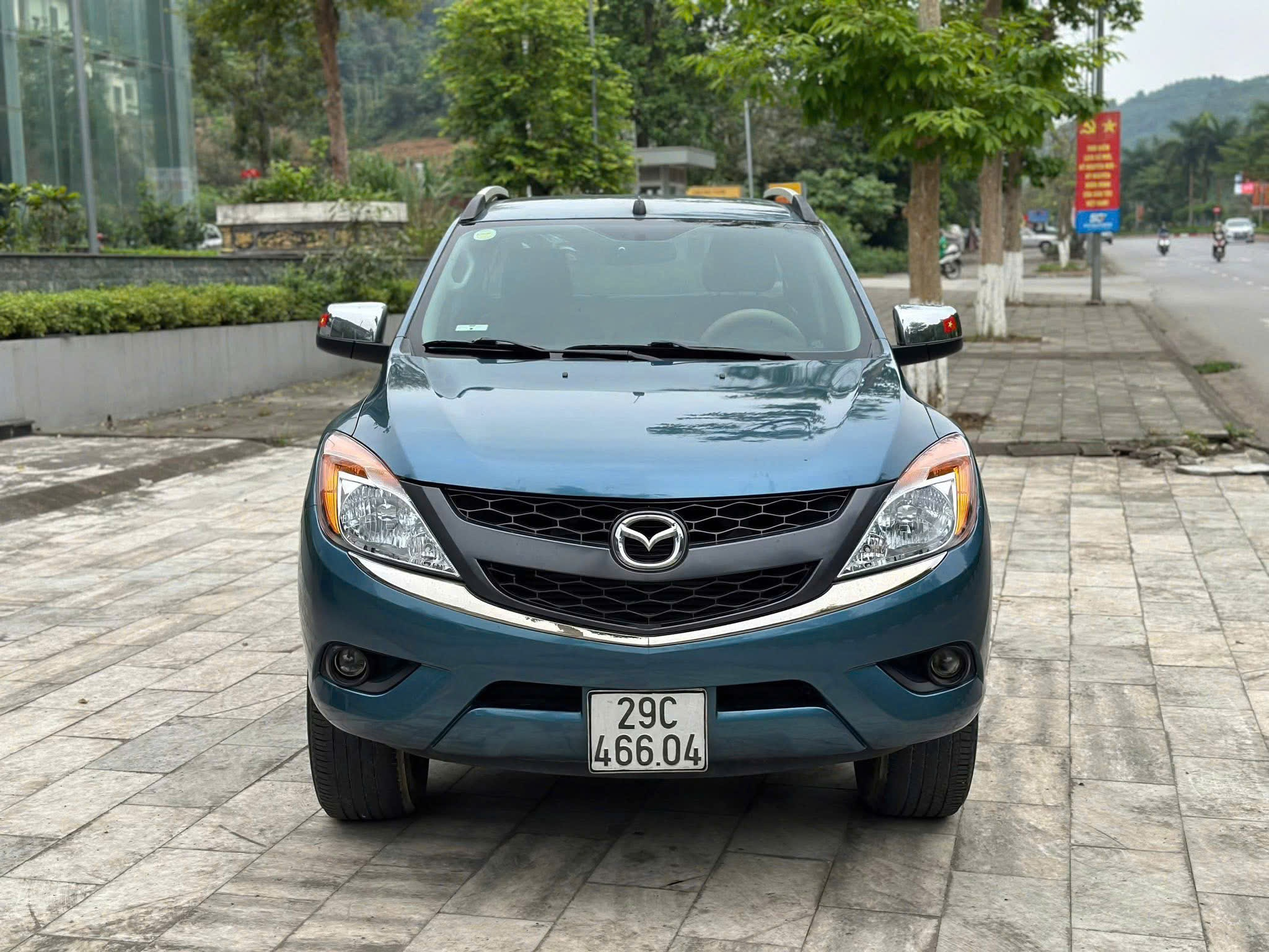Bien-so: (543, 716, 675, 817)
